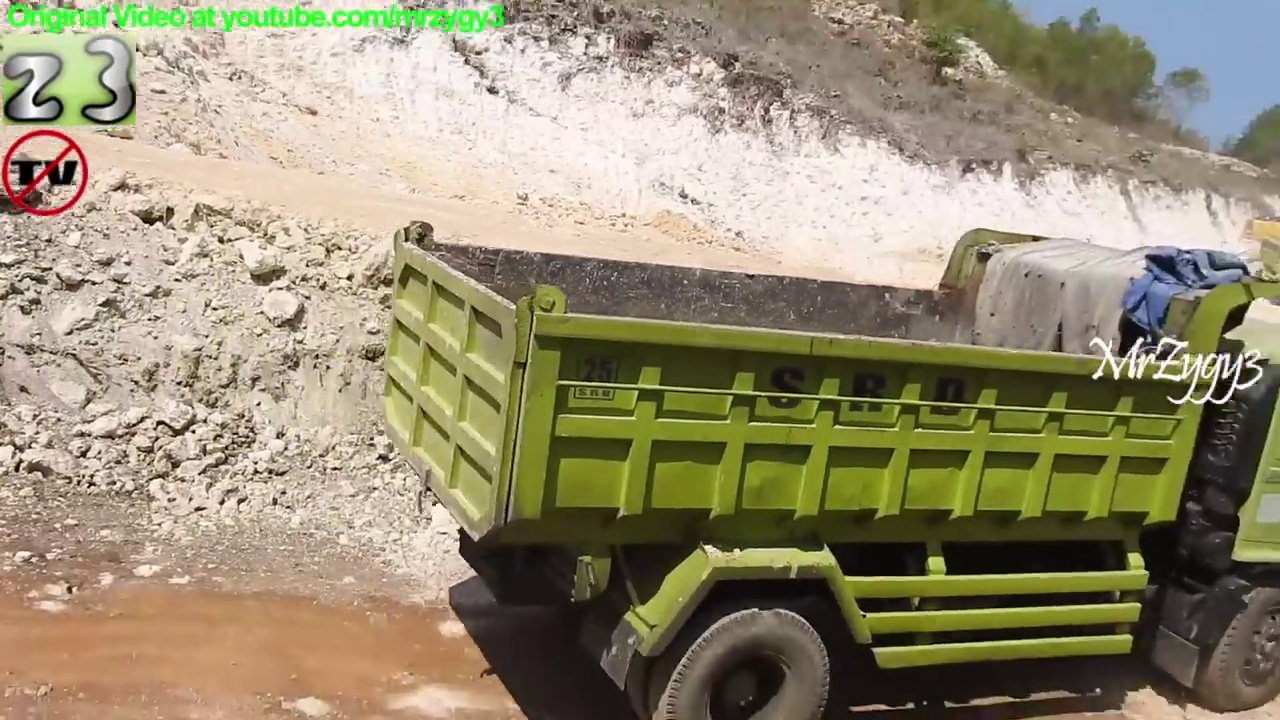truck: (369, 213, 1280, 720)
